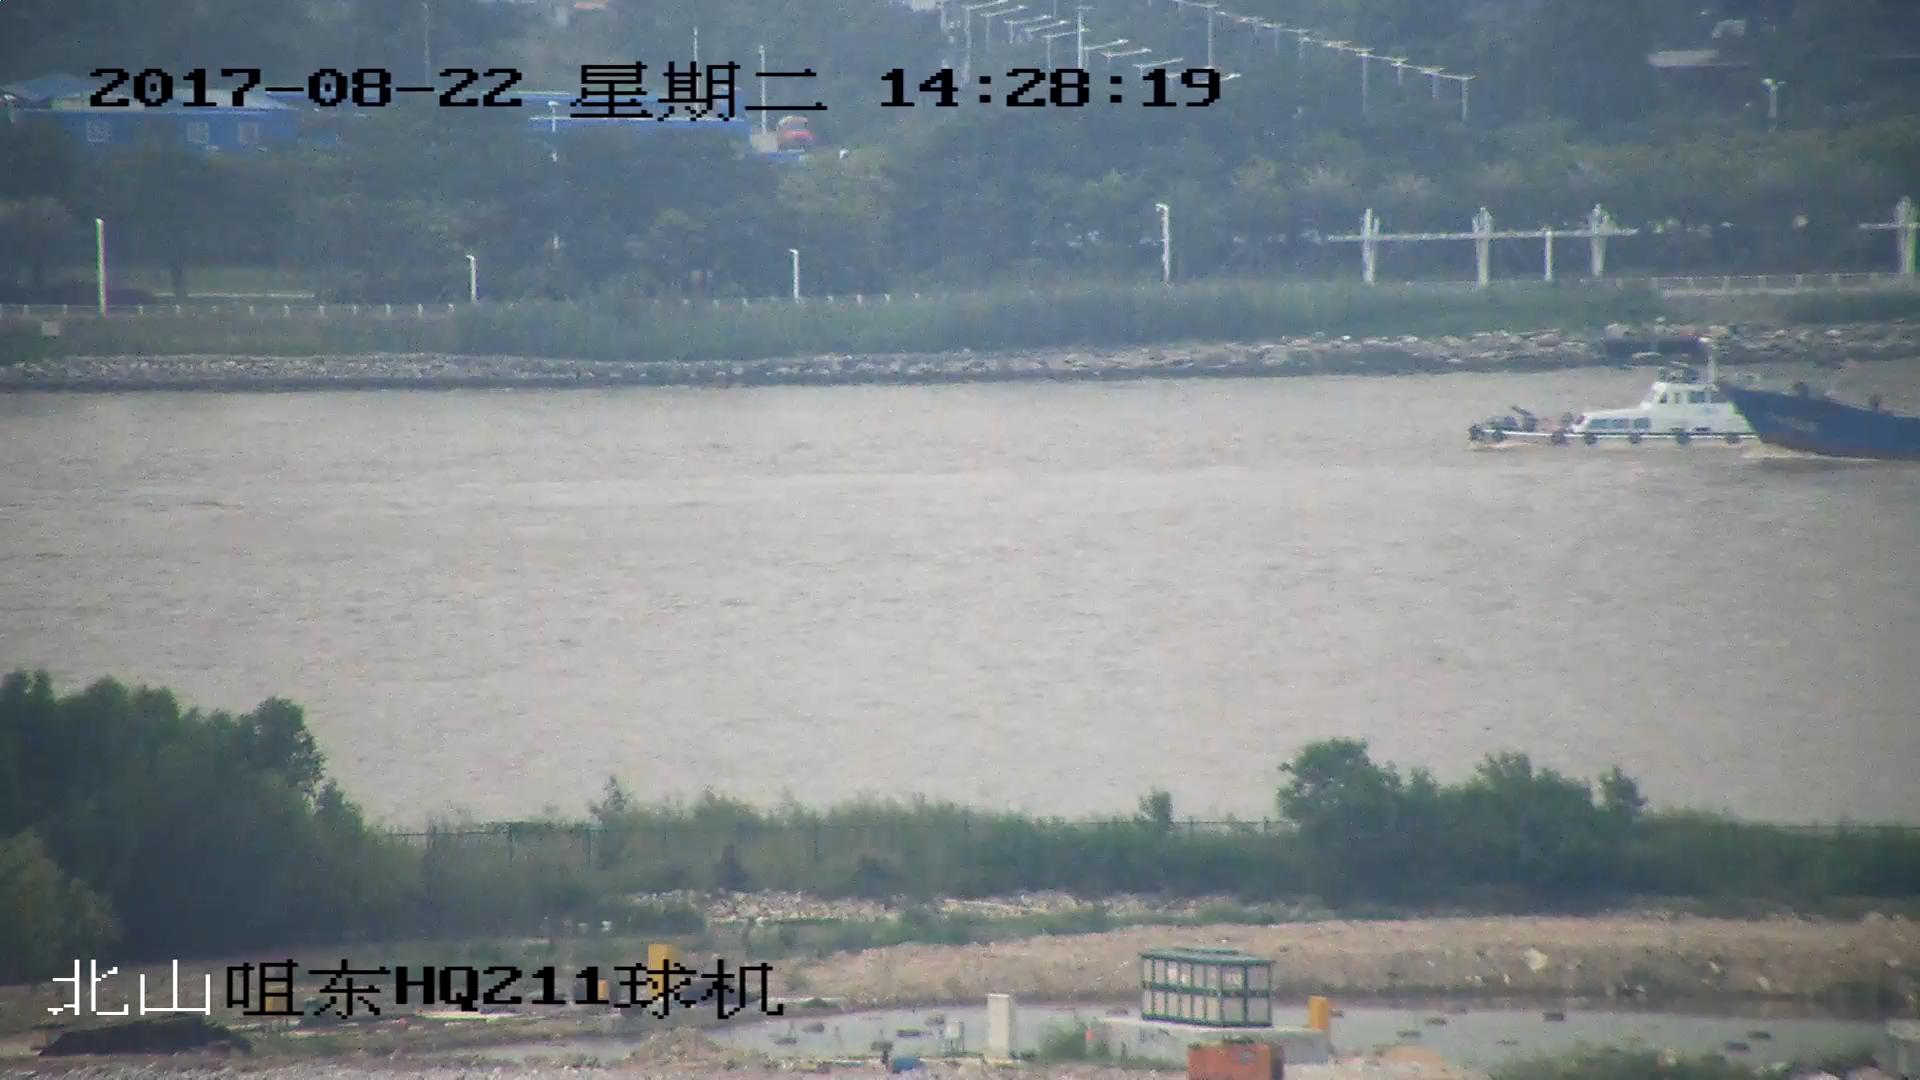fishing boat: (1716, 363, 1920, 459)
passenger ship: (1465, 339, 1801, 448)
